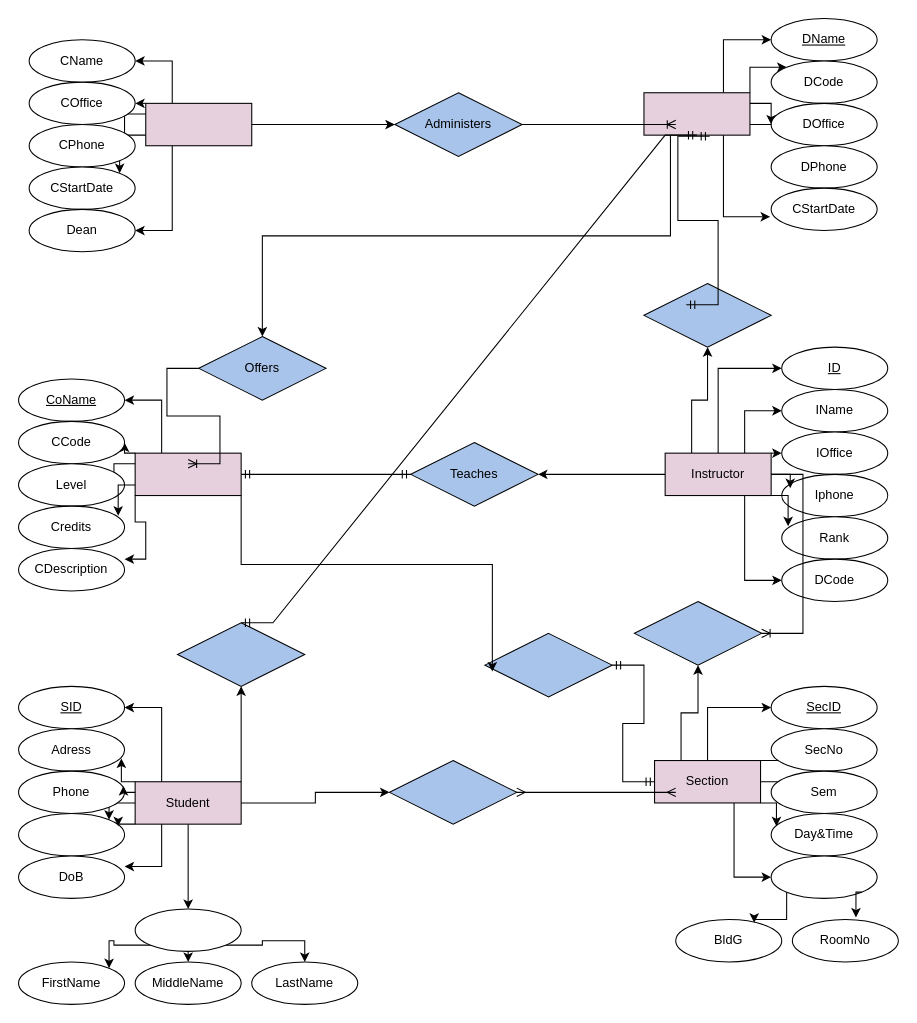
Some shapes in this 917 by 1023 pixel diagram are drawn without their labels. The shapes that lost their labels are listed below. From the top down, each one's centre as x and y in pixels, then its label:
At [198,124]: "College".
At [696,113]: "Department".
At [707,314]: "WorksFor".
At [187,474]: "Course".
At [697,632]: "TaughtBy".
At [240,654]: "IsAssigned".
At [548,664]: "RelatedTo".
At [452,791]: "EnreolledIn".
At [71,834]: "Major".
At [823,876]: "CRoom".
At [187,929]: "Name".
